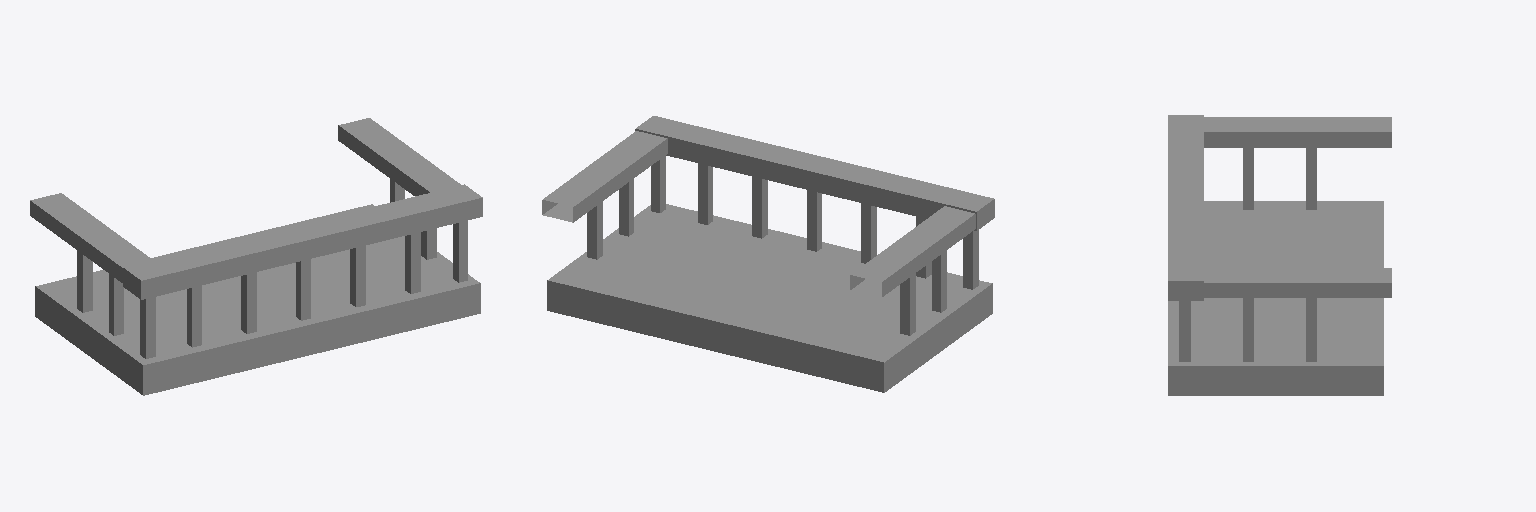
File: Balcony.obj
The picture shows the model from 3 angles: view 1: azimuth 30°, elevation 25°; view 2: azimuth 150°, elevation 25°; view 3: azimuth 270°, elevation 25°; orthographic projection.
Visible parts, largest first — view 1: Balcony_Cube.007; view 2: Balcony_Cube.007; view 3: Balcony_Cube.007.
Part boxes in pixels (bbox=[...]): Balcony_Cube.007: bbox=[30, 118, 482, 395]; Balcony_Cube.007: bbox=[542, 116, 994, 392]; Balcony_Cube.007: bbox=[1168, 115, 1391, 395].
Size of the model in its own units: 0.8344 by 0.2702 by 0.4747.